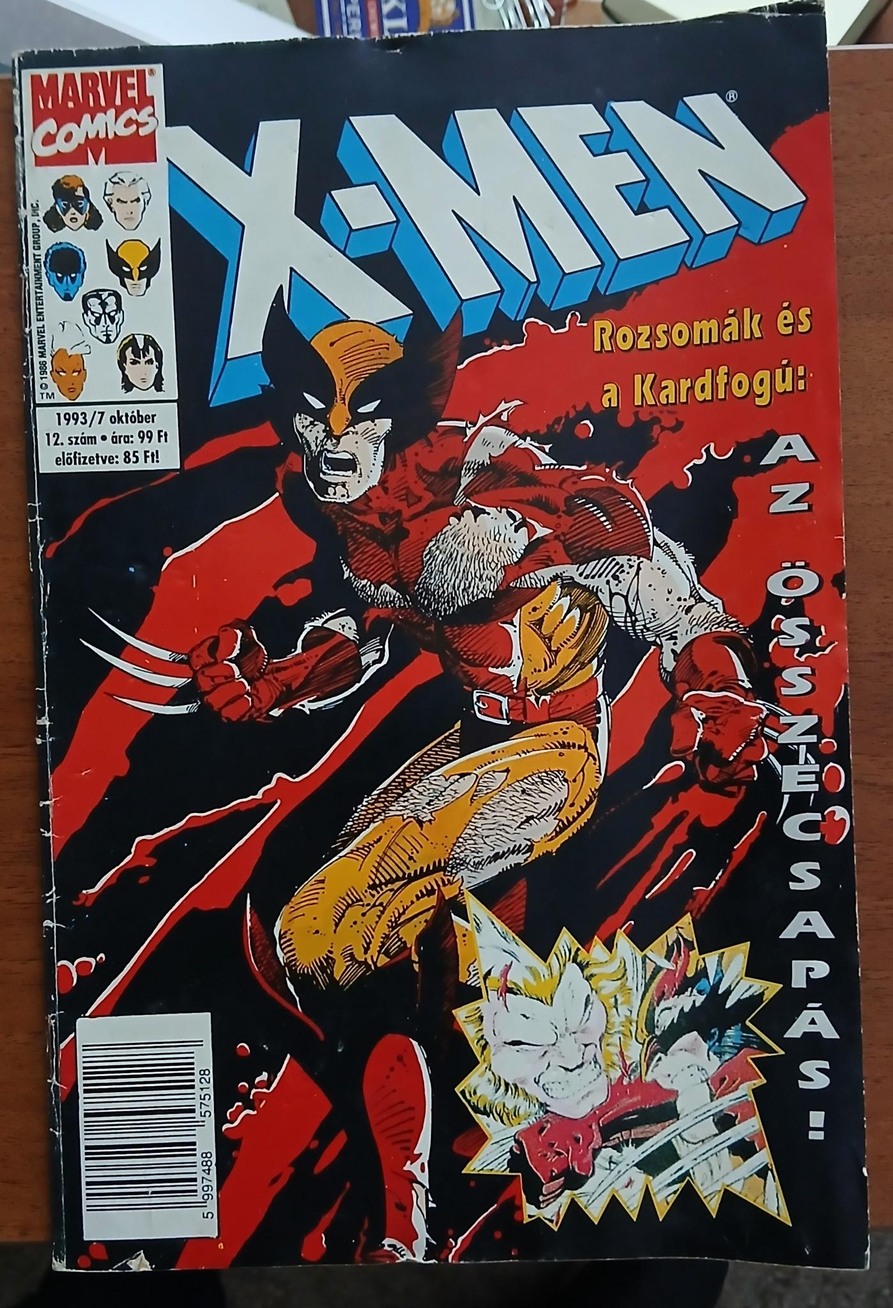comic: (15, 12, 868, 1292)
